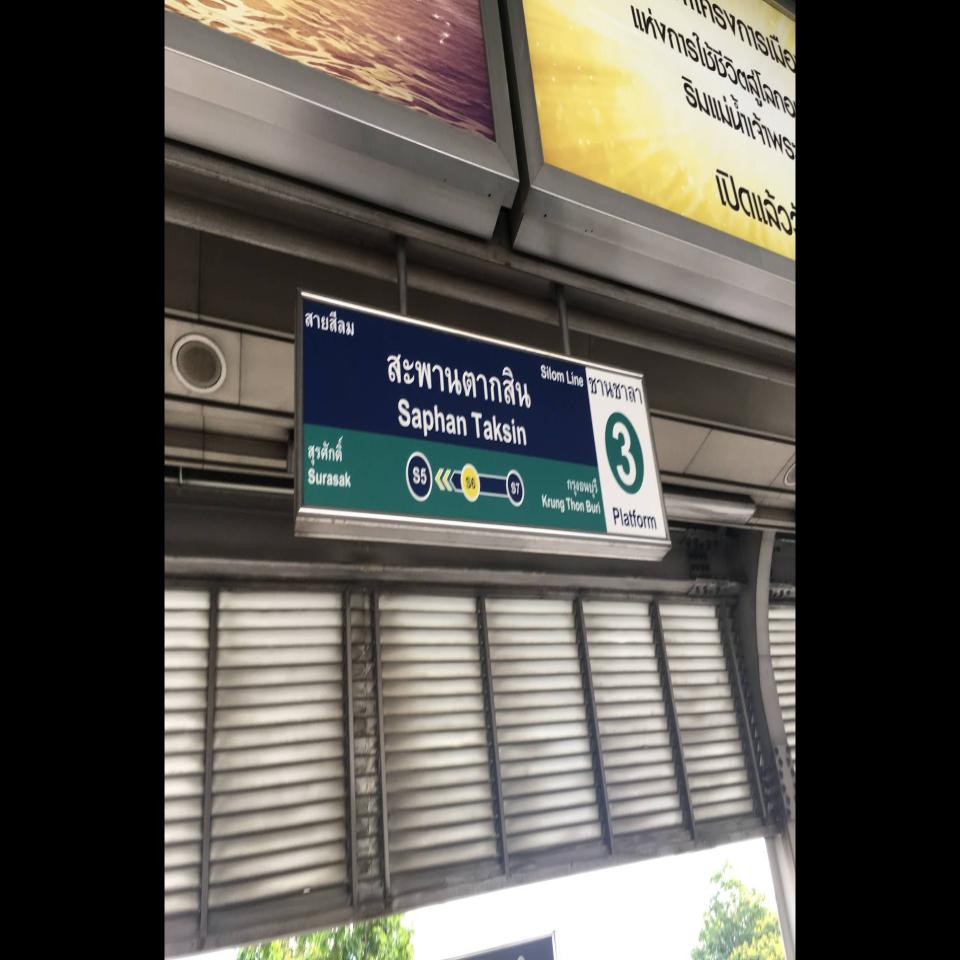signage: (388, 308, 531, 536)
